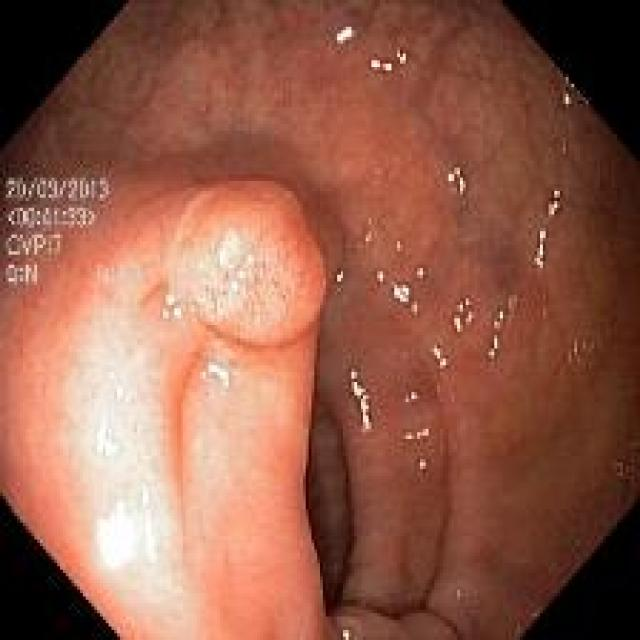Polyps: (169, 180, 326, 346)
